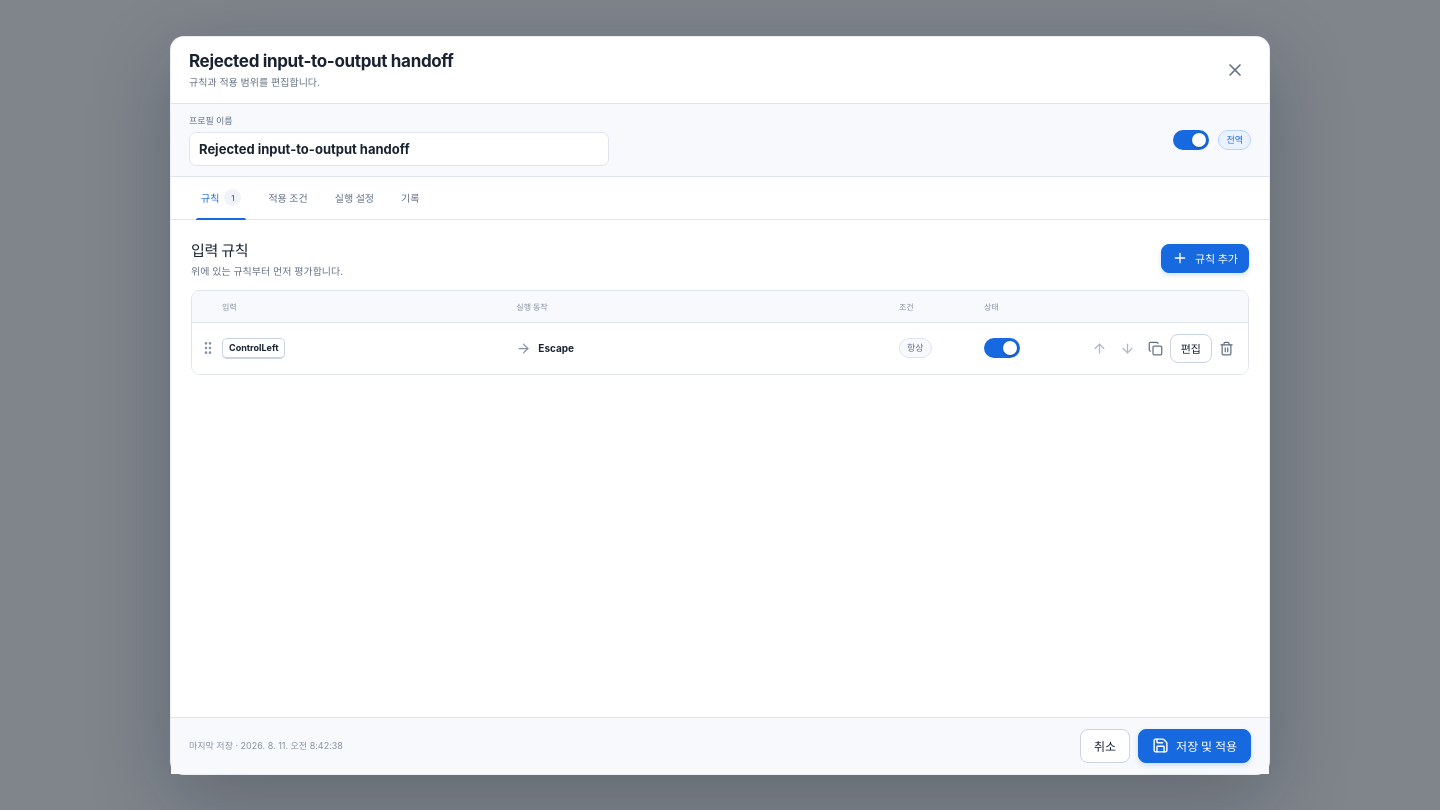
Test: ProfileEditor › does not begin native output capture when input teardown rejects
The image size is (1440, 810).
Step 1. Click the button "편집" → [1191, 348], box [1170,334,1212,362]
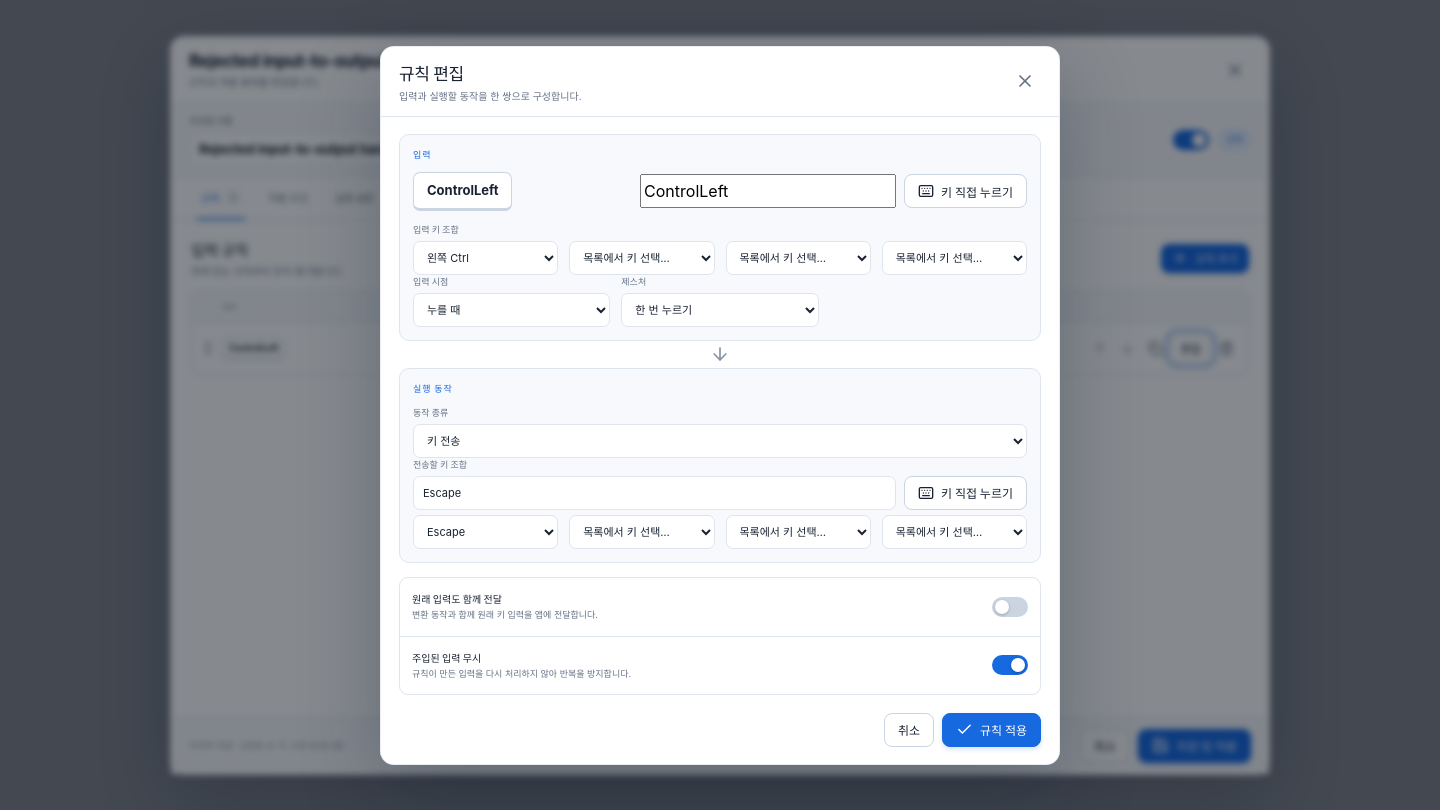
Step 2. Click the button with aria-label "입력 키 직접 누르기" → [966, 191], box [904,174,1027,208]
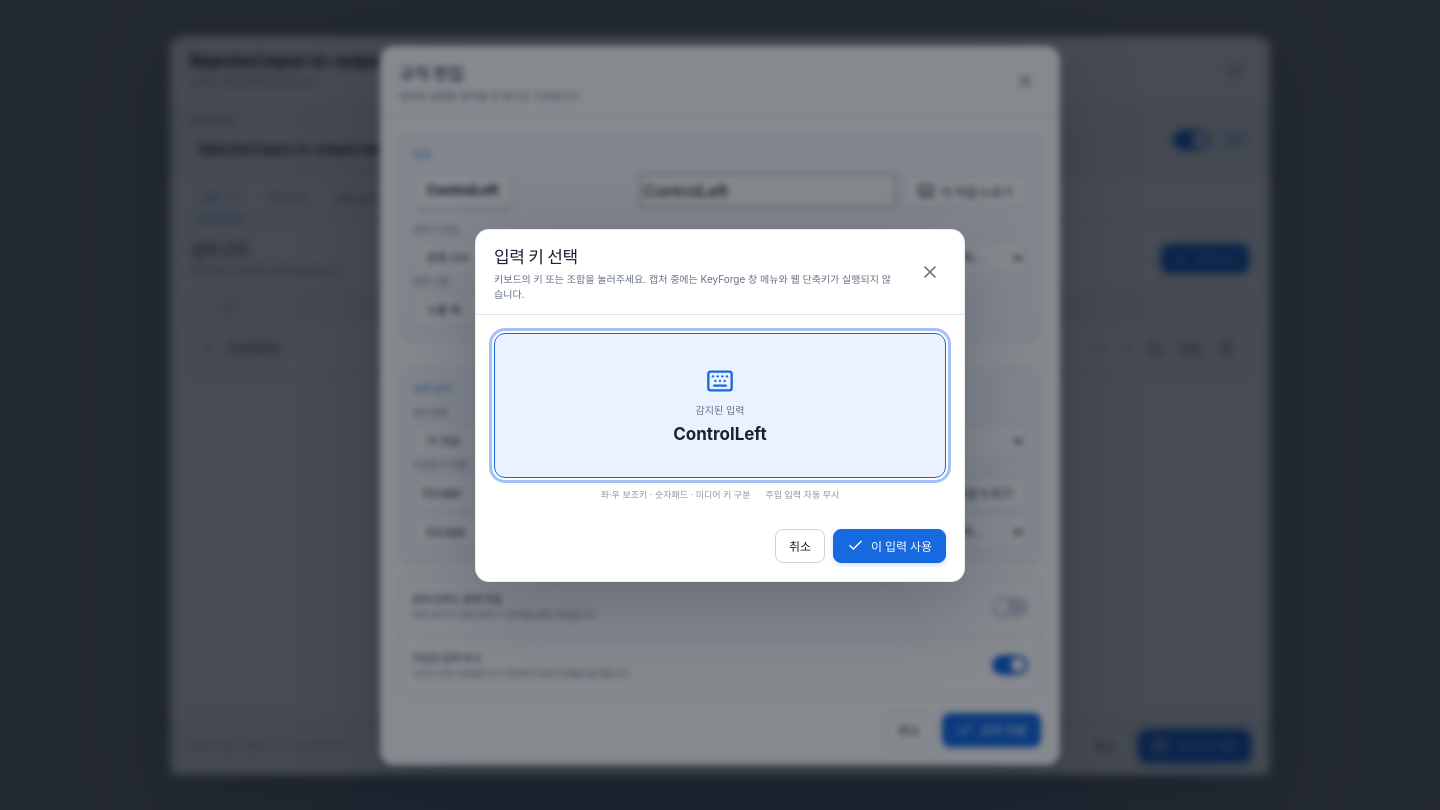
expect the text "ControlLeft" is shown: met, box [673,424,767,444]
Step 3. Click the button "이 입력 사용" → [890, 546], box [833,528,946,562]
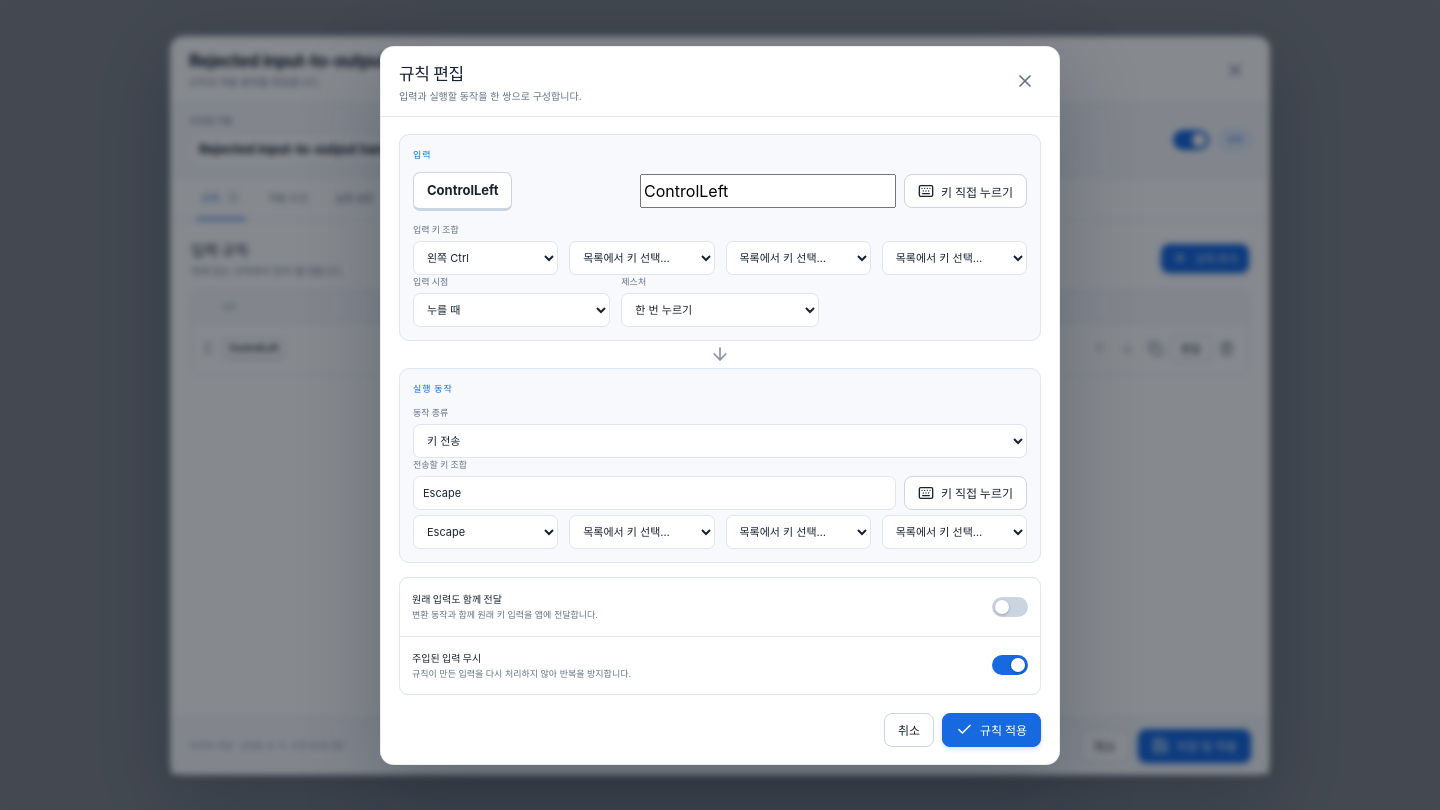
Step 4. Click the button with aria-label "전송할 키 직접 누르기" → [966, 492], box [904,476,1027,510]
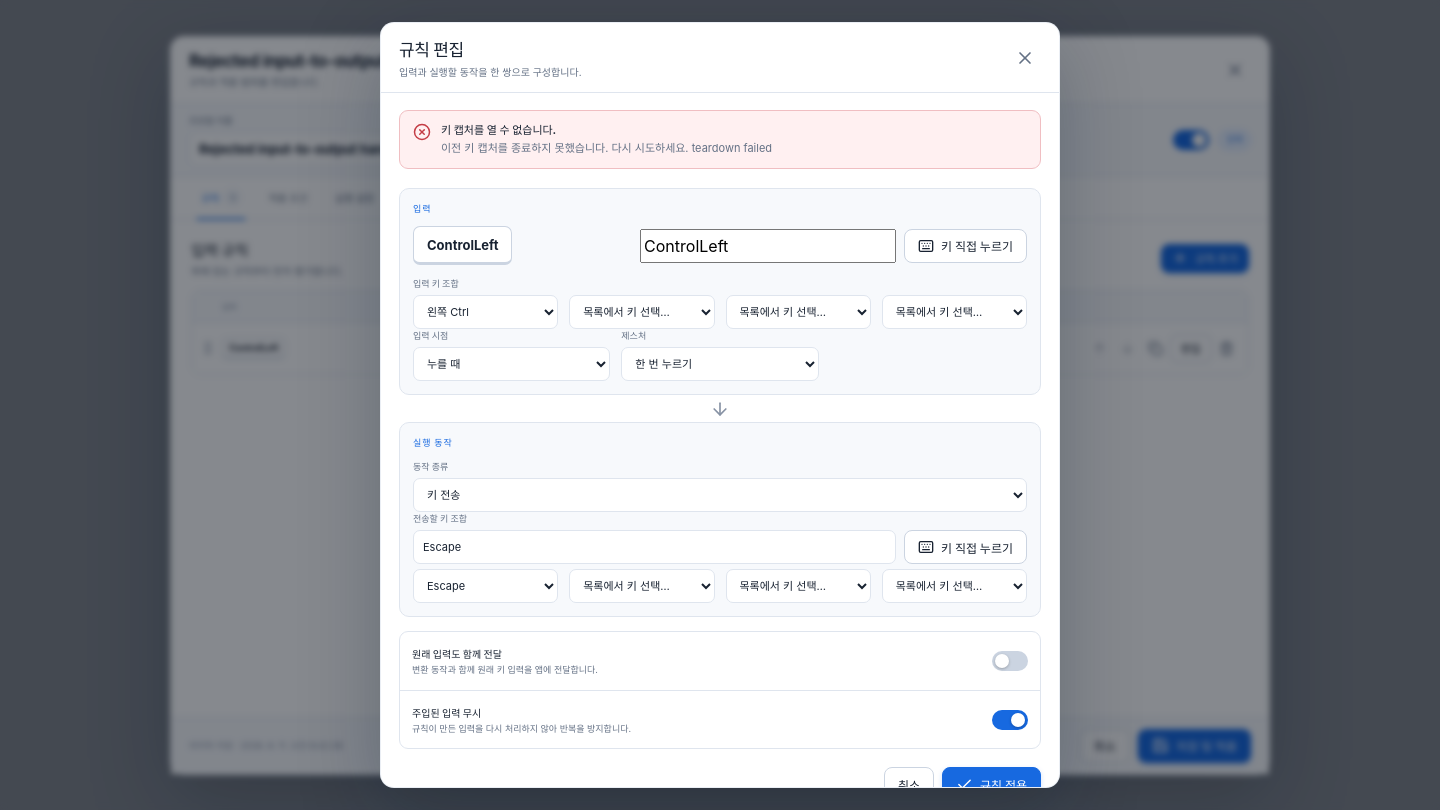
expect the text "이전 키 캡처를 종료하지 못했습니다. 다시 시도하세요. teardown failed" is shown: met, box [441,140,772,157]
